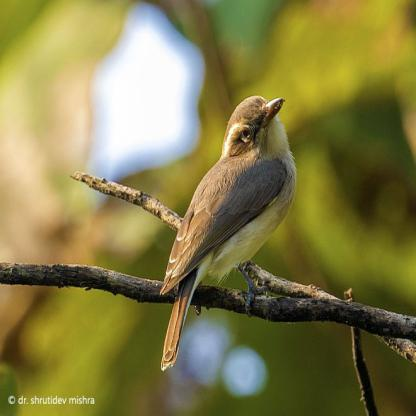Burung: (159, 95, 295, 372)
